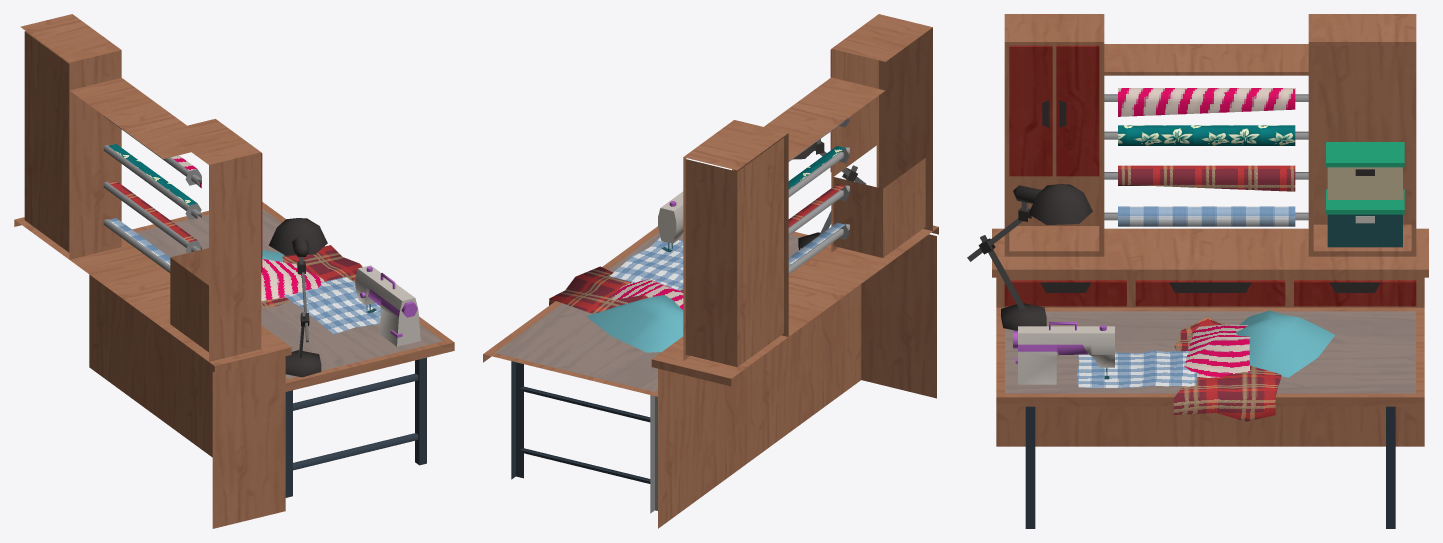
File: interior_D_004.fbx
The picture shows the model from 3 angles, left to right: view 1: azimuth 30°, elevation 25°; view 2: azimuth 150°, elevation 25°; view 3: azimuth 270°, elevation 25°; orthographic projection. The views are drawn at different scales.
Parts seen in each view (by area): view 1: interior_D_004; view 2: interior_D_004; view 3: interior_D_004.
Part boxes in pixels (bbox=[...]): interior_D_004: bbox=[14, 14, 454, 528]; interior_D_004: bbox=[483, 14, 938, 528]; interior_D_004: bbox=[967, 14, 1428, 528].
Size of the model in its own units: 140 by 194 by 207.
